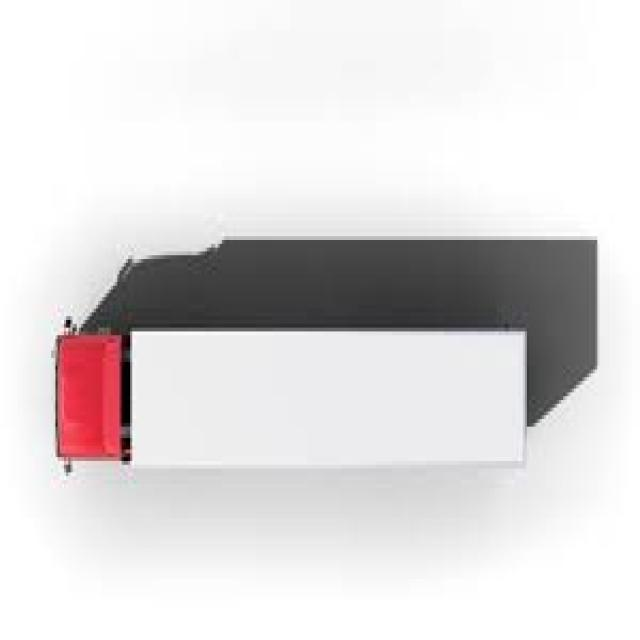truck: (54, 332, 530, 466)
